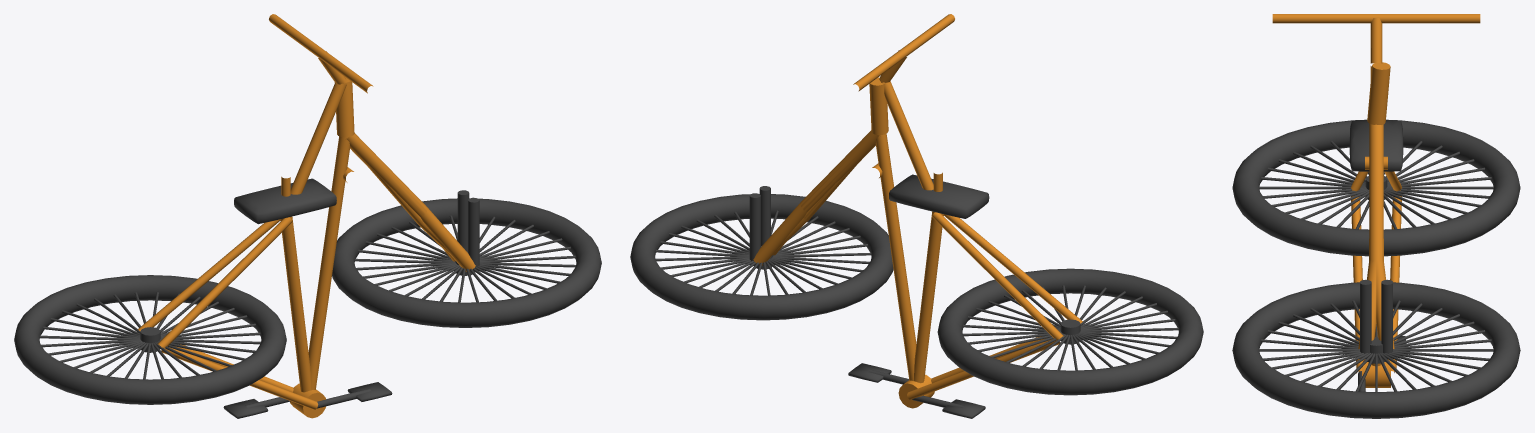
Rendered from bike-mtb.glb.
3 renders of one model, left to right at view 1: azimuth 30°, elevation 25°; view 2: azimuth 150°, elevation 25°; view 3: azimuth 270°, elevation 25°, orthographic. The views are drawn at different scales.
Parts seen in each view (by area): view 1: frame, wheelRear, wheelFront, crank; view 2: frame, wheelRear, wheelFront, crank; view 3: wheelFront, wheelRear, frame.
Boxes of the visible parts, left/top/right/bottom form: frame: left=138, top=14, right=479, bottom=418; wheelRear: left=14, top=275, right=286, bottom=404; wheelFront: left=332, top=198, right=601, bottom=327; crank: left=223, top=382, right=392, bottom=418; frame: left=749, top=14, right=1082, bottom=408; wheelRear: left=937, top=268, right=1203, bottom=395; wheelFront: left=630, top=194, right=893, bottom=320; crank: left=848, top=363, right=985, bottom=418; wheelFront: left=1232, top=282, right=1520, bottom=418; wheelRear: left=1232, top=119, right=1520, bottom=256; frame: left=1272, top=14, right=1480, bottom=387.
Bounding box in the file's own units: 1.75 × 1.09 × 0.75.
